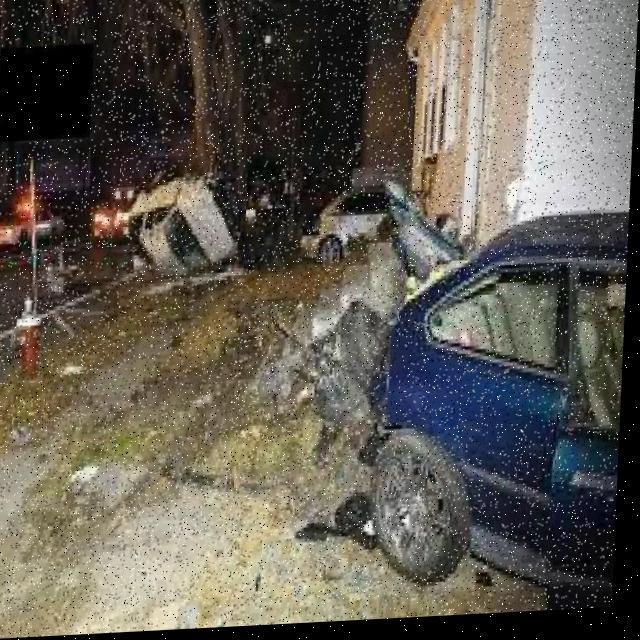single accident: (122, 119, 302, 294)
